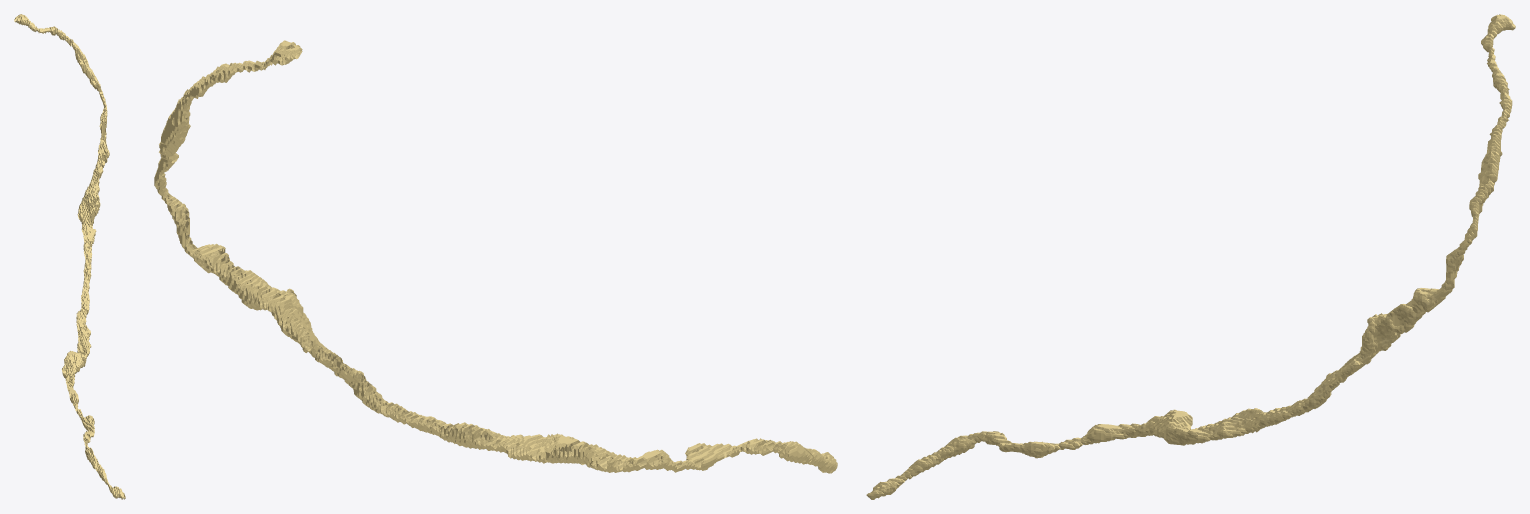
Rendered from SVV_ASHR.gltf.
3 renders of one model, left to right at view 1: azimuth 30°, elevation 25°; view 2: azimuth 150°, elevation 25°; view 3: azimuth 270°, elevation 25°, orthographic. The views are drawn at different scales.
Parts seen in each view (by area): view 1: ASHR; view 2: ASHR; view 3: ASHR.
Part boxes in pixels (x1,y1,x2,y2): ASHR: (14, 14, 125, 499); ASHR: (154, 40, 837, 473); ASHR: (866, 14, 1515, 499).
Size of the model in its own units: 87240 by 160288 by 170890.
